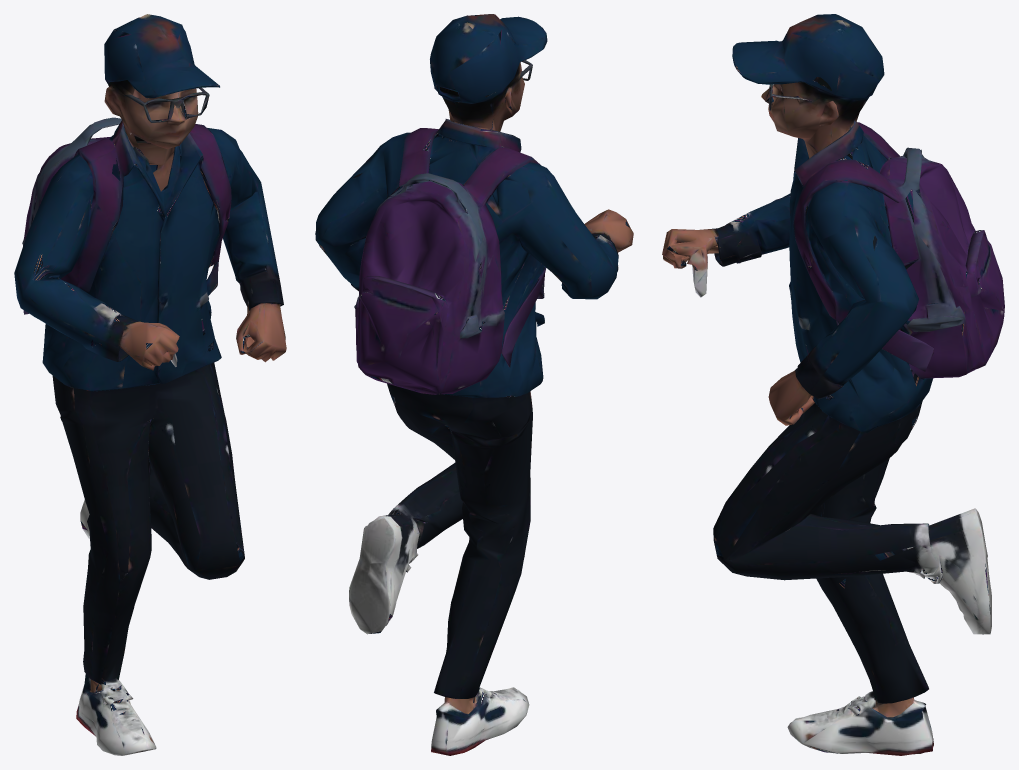
Rendered from runner.glb.
The picture shows the model from 3 angles, left to right: view 1: azimuth 30°, elevation 25°; view 2: azimuth 150°, elevation 25°; view 3: azimuth 270°, elevation 25°; orthographic projection. The views are drawn at different scales.
Visible parts, largest first — view 1: world; view 2: world; view 3: world.
Boxes of the visible parts, left/top/right/bottom form: world: left=14, top=14, right=286, bottom=755; world: left=315, top=14, right=633, bottom=755; world: left=662, top=14, right=1004, bottom=755.
Size of the model in its own units: 0.3892 by 0.9996 by 0.4215.
Materials: 1 (1 with a texture image).
